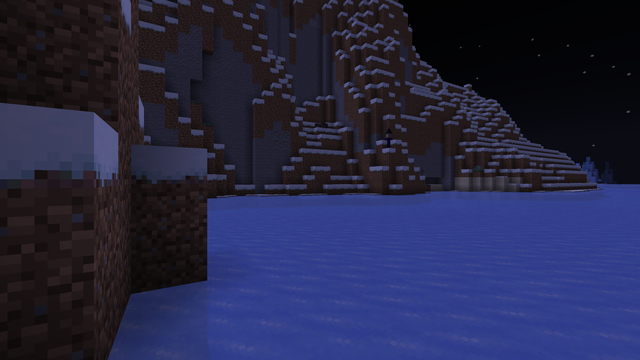araignees: (312, 121, 326, 128)
sorcieres: (385, 132, 392, 145)
